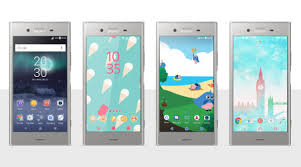sony: (3, 17, 73, 146), (79, 18, 149, 147), (154, 16, 224, 145), (224, 17, 294, 146)
